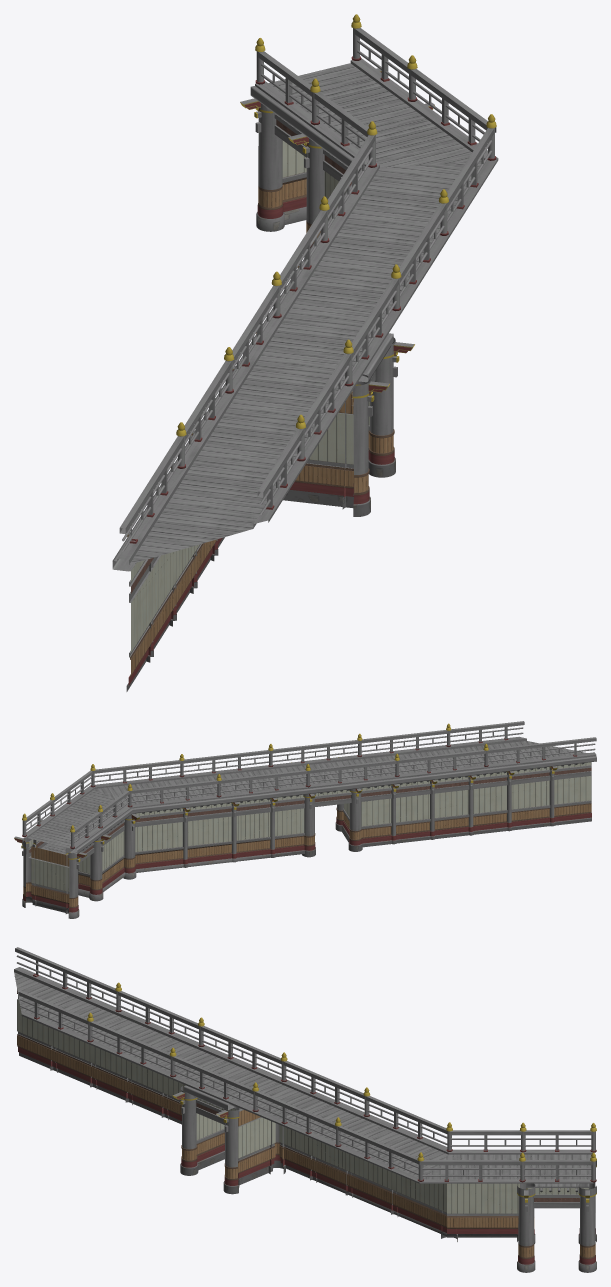
The model's file is SM_ENV_LKNVLD_WallSet_Bend.FBX.
3 views of the same model, one above another, from view 1: azimuth 30°, elevation 25°; view 2: azimuth 150°, elevation 25°; view 3: azimuth 270°, elevation 25° (orthographic). The views are drawn at different scales.
Parts seen in each view (by area): view 1: SM_ENV_LKNVLD_WallSet_Bend; view 2: SM_ENV_LKNVLD_WallSet_Bend; view 3: SM_ENV_LKNVLD_WallSet_Bend.
Boxes of the visible parts, left/top/right/bottom form: SM_ENV_LKNVLD_WallSet_Bend: left=112, top=14, right=498, bottom=691; SM_ENV_LKNVLD_WallSet_Bend: left=14, top=721, right=596, bottom=918; SM_ENV_LKNVLD_WallSet_Bend: left=14, top=947, right=596, bottom=1272.
Bounding box in the file's own units: 3393 × 837 × 3758.
